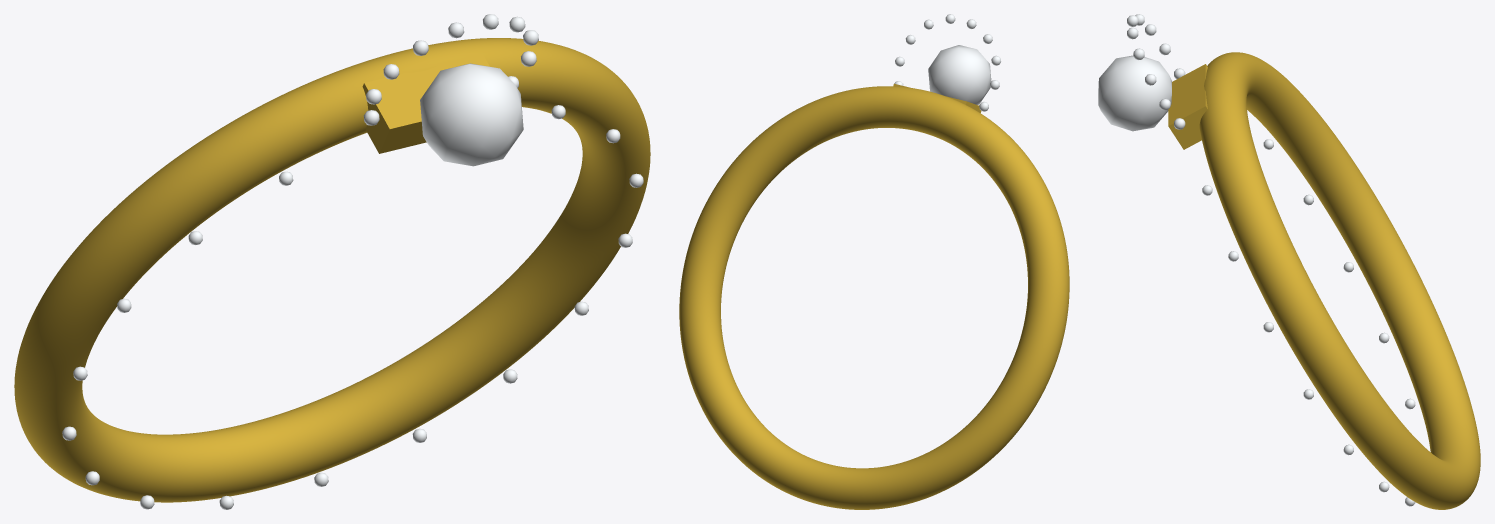
Rendered from aurora-drops.glb.
The picture shows the model from 3 angles, left to right: view 1: azimuth 30°, elevation 25°; view 2: azimuth 150°, elevation 25°; view 3: azimuth 270°, elevation 25°; orthographic projection. The views are drawn at different scales.
Parts seen in each view (by area): view 1: gold_band, hero_gemstone, gold_setting; view 2: gold_band, hero_gemstone; view 3: gold_band, hero_gemstone, gold_setting.
Part boxes in pixels (bbox=[...]): gold_band: bbox=[14, 38, 650, 502]; hero_gemstone: bbox=[420, 63, 523, 166]; gold_setting: bbox=[362, 54, 489, 153]; gold_band: bbox=[679, 86, 1069, 509]; hero_gemstone: bbox=[928, 45, 991, 104]; gold_band: bbox=[1199, 52, 1480, 509]; hero_gemstone: bbox=[1098, 55, 1171, 131]; gold_setting: bbox=[1168, 64, 1207, 149].
Bounding box in the file's own units: 2.34 × 2.34 × 1.76.
